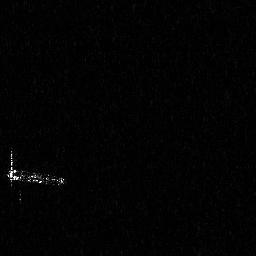ship: (4, 151, 67, 191)
